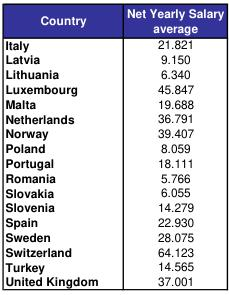table: (4, 3, 223, 289)
table column: (111, 3, 223, 289), (4, 3, 111, 289)
table column header: (4, 3, 223, 35)
table row: (4, 3, 223, 35), (4, 35, 223, 51), (4, 273, 223, 289), (4, 51, 223, 66), (4, 80, 223, 95), (4, 95, 223, 110), (4, 110, 223, 125), (4, 125, 223, 140), (4, 154, 223, 169), (4, 169, 223, 184), (4, 184, 223, 199), (4, 199, 223, 214), (4, 228, 223, 243), (4, 243, 223, 258), (4, 258, 223, 273), (4, 66, 223, 80), (4, 140, 223, 154), (4, 214, 223, 228)
